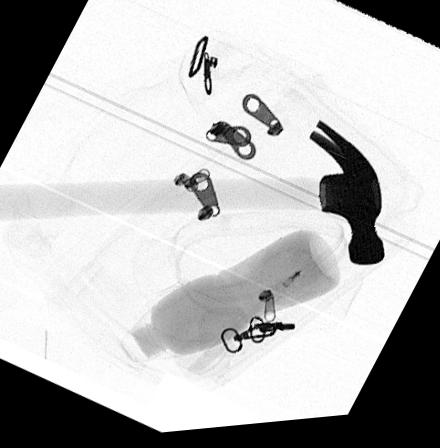Hammer: (0, 126, 385, 272)
